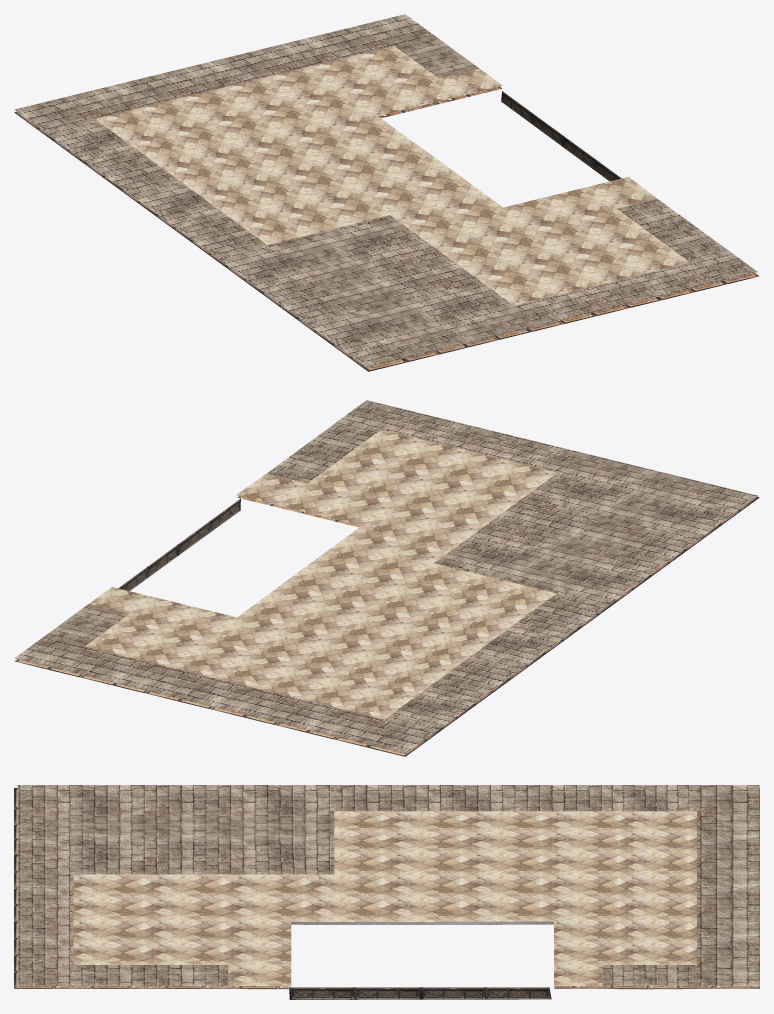
The picture shows the model from 3 angles, top to bottom: view 1: azimuth 30°, elevation 25°; view 2: azimuth 150°, elevation 25°; view 3: azimuth 270°, elevation 25°; orthographic projection. The views are drawn at different scales.
Parts seen in each view (by area): view 1: Object34; view 2: Object34; view 3: Object34.
Part boxes in pixels (box(x1,y1,x2,y2)): Object34: box(14, 14, 759, 371); Object34: box(14, 400, 759, 756); Object34: box(14, 785, 759, 999).
Bounding box in the file's own units: 456 × 16.5 × 714.
